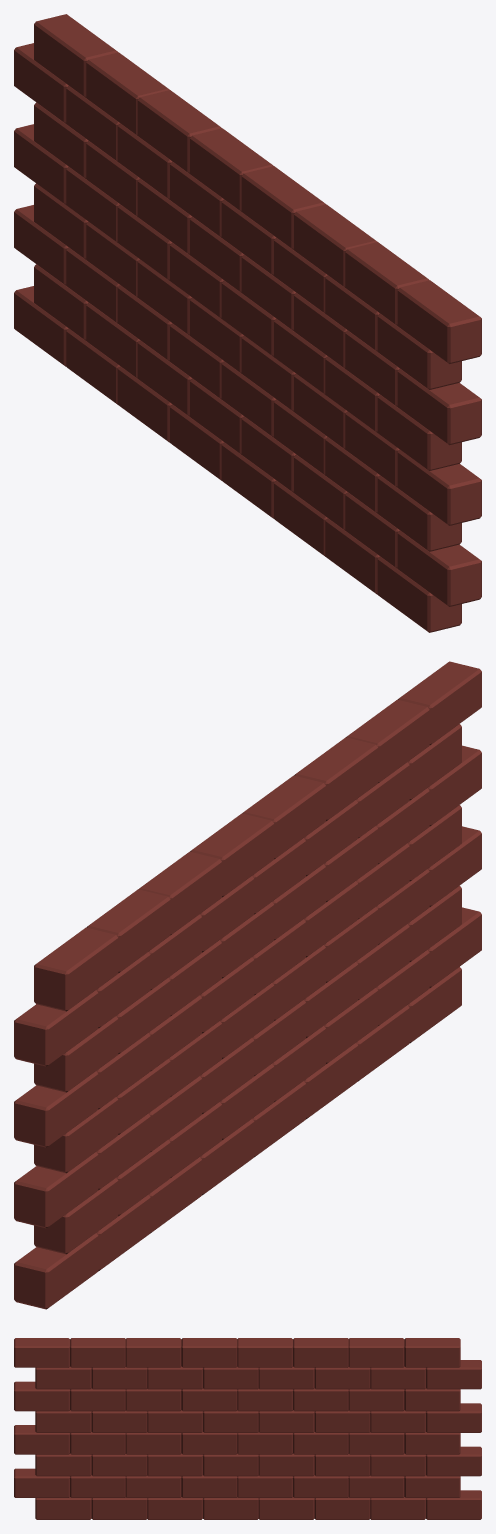
Rendered from wall.fbx.
The picture shows the model from 3 angles, top to bottom: view 1: azimuth 30°, elevation 25°; view 2: azimuth 150°, elevation 25°; view 3: azimuth 270°, elevation 25°; orthographic projection. The views are drawn at different scales.
Parts seen in each view (by area): view 1: Cube.042, Cube.010, Cube.053, Cube.021, Cube.044, Cube.040, Cube.043, Cube.047, Cube.045, Cube.046, Cube.041, Cube.026 (+52 smaller); view 2: Cube.047, Cube, Cube.031, Cube.063, Cube.032, Cube.045, Cube.042, Cube.046, Cube.041, Cube.040, Cube.044, Cube.043 (+52 smaller); view 3: Cube.040, Cube.041, Cube.046, Cube.047, Cube.042, Cube.043, Cube.044, Cube.045, Cube.031, Cube.053, Cube.032, Cube (+52 smaller).
Part boxes in pixels (bbox=[...]): Cube.042: bbox=[397, 280, 481, 363]; Cube.010: bbox=[397, 530, 481, 606]; Cube.053: bbox=[397, 369, 481, 445]; Cube.021: bbox=[397, 449, 481, 525]; Cube.044: bbox=[137, 90, 221, 173]; Cube.040: bbox=[241, 166, 325, 249]; Cube.043: bbox=[345, 242, 429, 325]; Cube.047: bbox=[34, 14, 117, 97]; Cube.045: bbox=[190, 128, 273, 211]; Cube.046: bbox=[86, 52, 169, 135]; Cube.041: bbox=[294, 204, 377, 287]; Cube.026: bbox=[377, 475, 461, 551]; Cube.047: bbox=[34, 927, 118, 1011]; Cube: bbox=[14, 1233, 98, 1309]; Cube.031: bbox=[14, 1152, 98, 1228]; Cube.063: bbox=[14, 1071, 98, 1147]; Cube.032: bbox=[14, 990, 98, 1066]; Cube.045: bbox=[190, 813, 274, 897]; Cube.042: bbox=[398, 661, 481, 745]; Cube.046: bbox=[86, 889, 170, 973]; Cube.041: bbox=[294, 737, 378, 821]; Cube.040: bbox=[242, 775, 325, 859]; Cube.044: bbox=[138, 851, 221, 935]; Cube.043: bbox=[346, 699, 429, 782]; Cube.040: bbox=[181, 1338, 237, 1367]; Cube.041: bbox=[125, 1338, 181, 1367]; Cube.046: bbox=[348, 1338, 404, 1367]; Cube.047: bbox=[404, 1338, 460, 1367]; Cube.042: bbox=[14, 1338, 69, 1367]; Cube.043: bbox=[70, 1338, 125, 1367]; Cube.044: bbox=[293, 1338, 348, 1367]; Cube.045: bbox=[237, 1338, 292, 1367]; Cube.031: bbox=[426, 1446, 481, 1476]; Cube.053: bbox=[14, 1381, 69, 1411]; Cube.032: bbox=[426, 1360, 481, 1389]; Cube: bbox=[426, 1490, 481, 1519].
Bounding box in the file's own units: 5762 × 2361 × 266.
